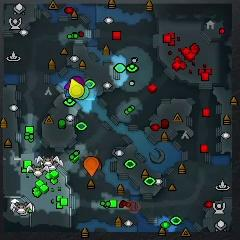p1: (66, 88, 69, 97)
p2: (78, 85, 89, 99)
p3: (65, 76, 84, 89)
p4: (70, 79, 84, 99)
p5: (84, 157, 100, 177)
